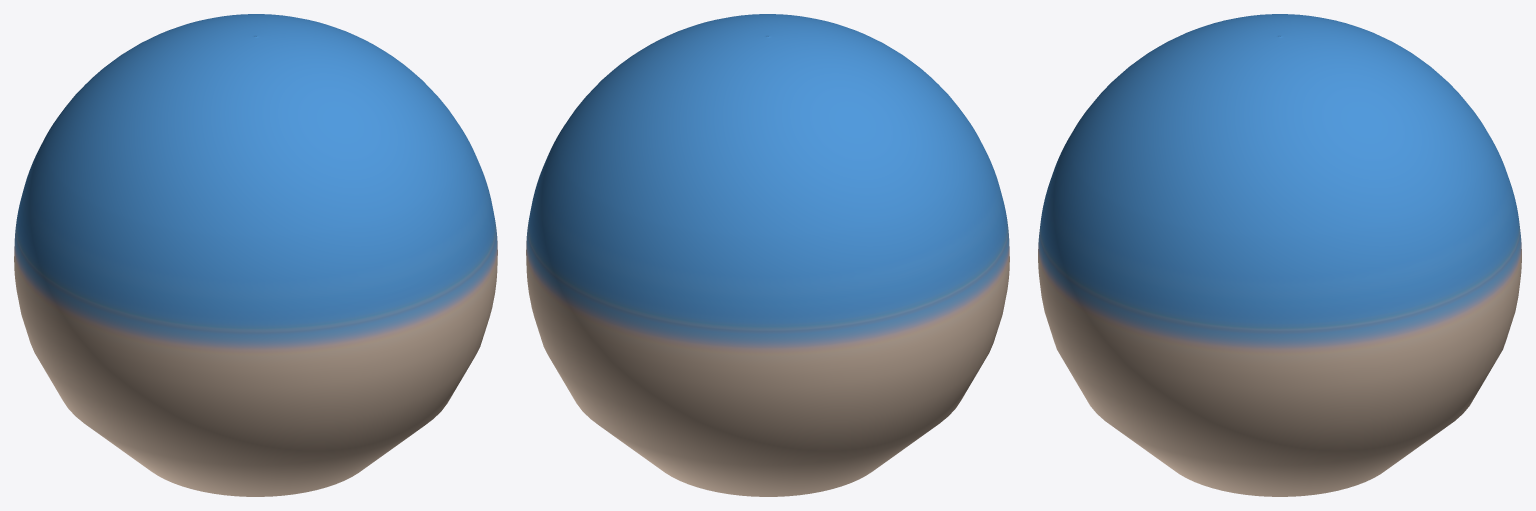
The model's file is env.glb.
The picture shows the model from 3 angles, left to right: view 1: azimuth 30°, elevation 25°; view 2: azimuth 150°, elevation 25°; view 3: azimuth 270°, elevation 25°; orthographic projection.
Parts seen in each view (by area): view 1: env_sky; view 2: env_sky; view 3: env_sky.
Part boxes in pixels (bbox=[...]): env_sky: bbox=[14, 14, 497, 496]; env_sky: bbox=[526, 14, 1009, 496]; env_sky: bbox=[1038, 14, 1521, 496].
Size of the model in its own units: 900 by 900 by 900.
